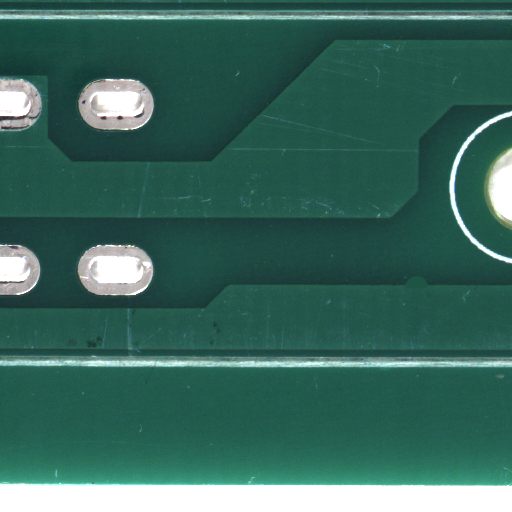Spur: (414, 280, 439, 290)
